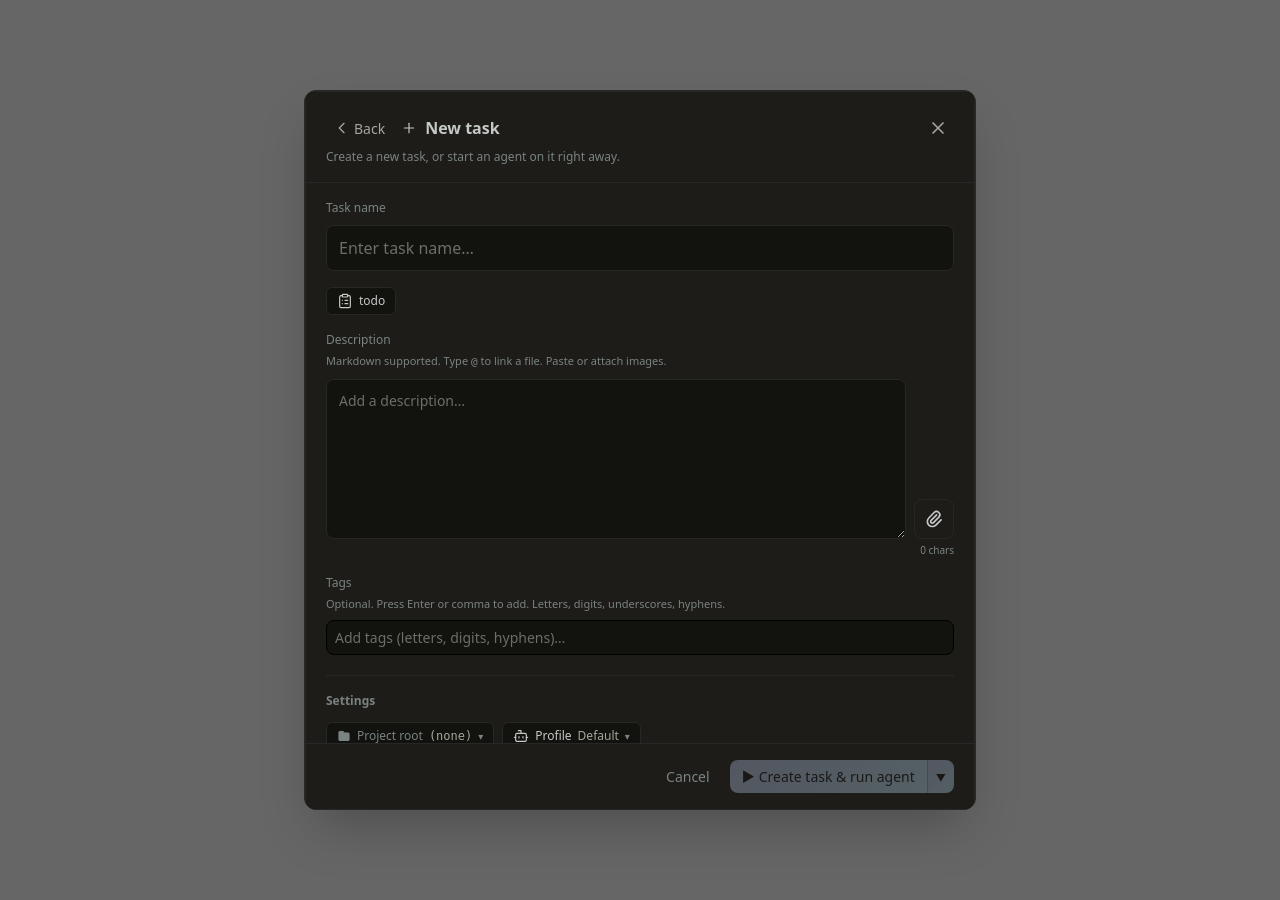
KanbanTaskDetailDialog — tag autocomplete wiring › renders the existing-tag dropdown in create mode so the user can one-click pick a tag
Focus the field with test id "kanban-task-detail-create-tags-field": coordinates (640, 638) [335, 627, 945, 648]
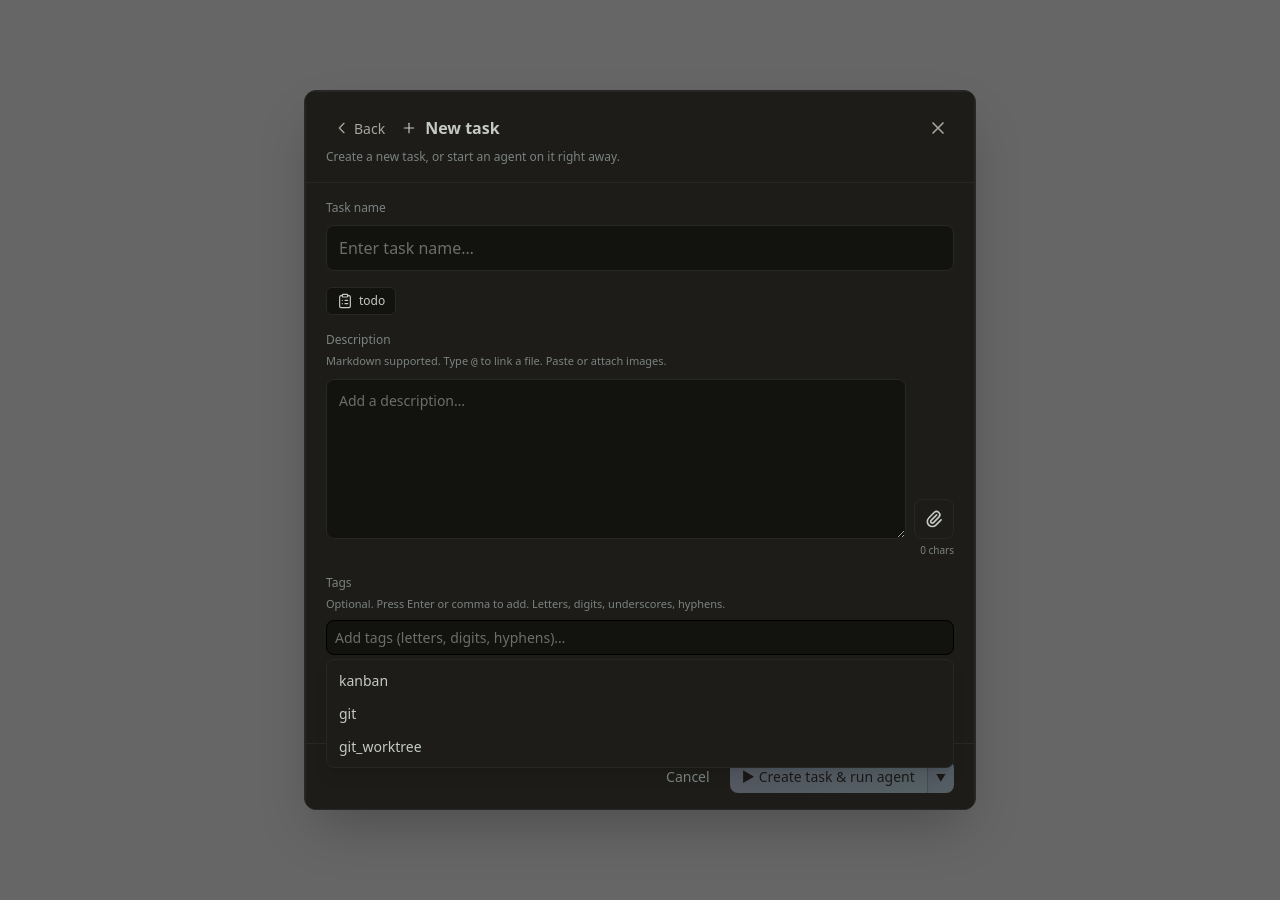
Expected: the list item with test id "kanban-task-detail-create-tags-suggestion-kanban" is shown, [339, 671, 388, 690]
Expected: the list item with test id "kanban-task-detail-create-tags-suggestion-git" is shown, [339, 704, 356, 723]
Expected: the list item with test id "kanban-task-detail-create-tags-suggestion-git_worktree" is shown, [339, 737, 422, 756]
